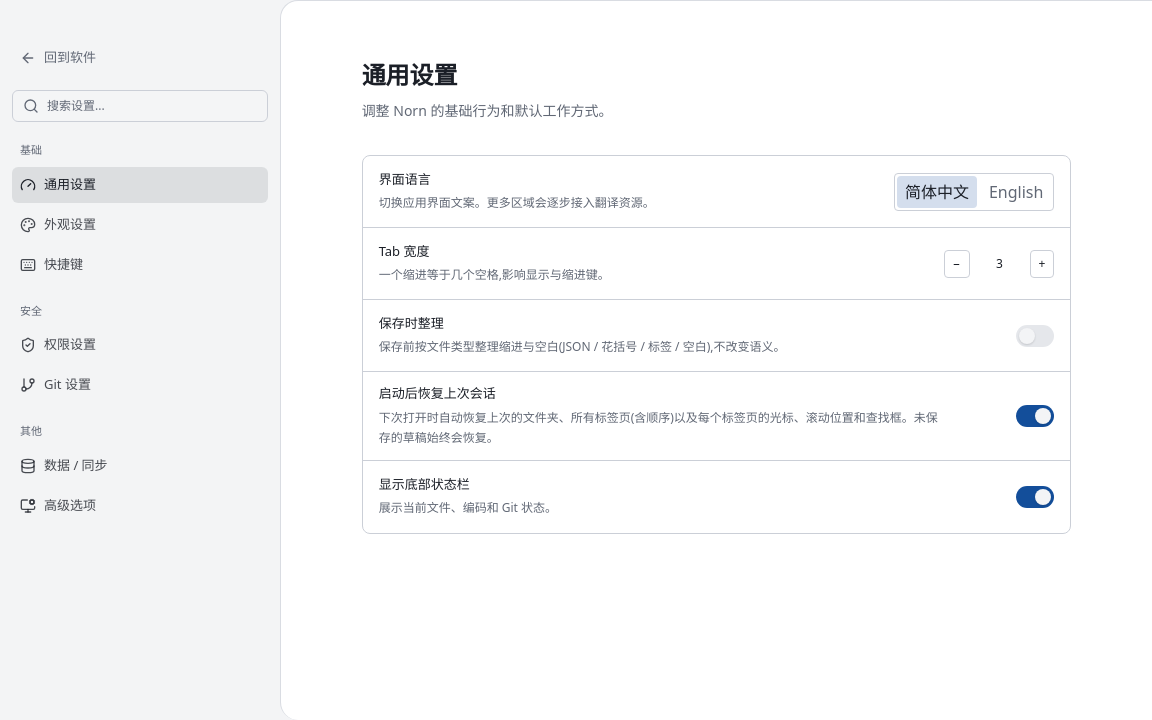
Test case: SettingsPage › 切换英文后更新设置页核心文案
Click the button "English".
click(1016, 192)  # box [981,176,1051,208]
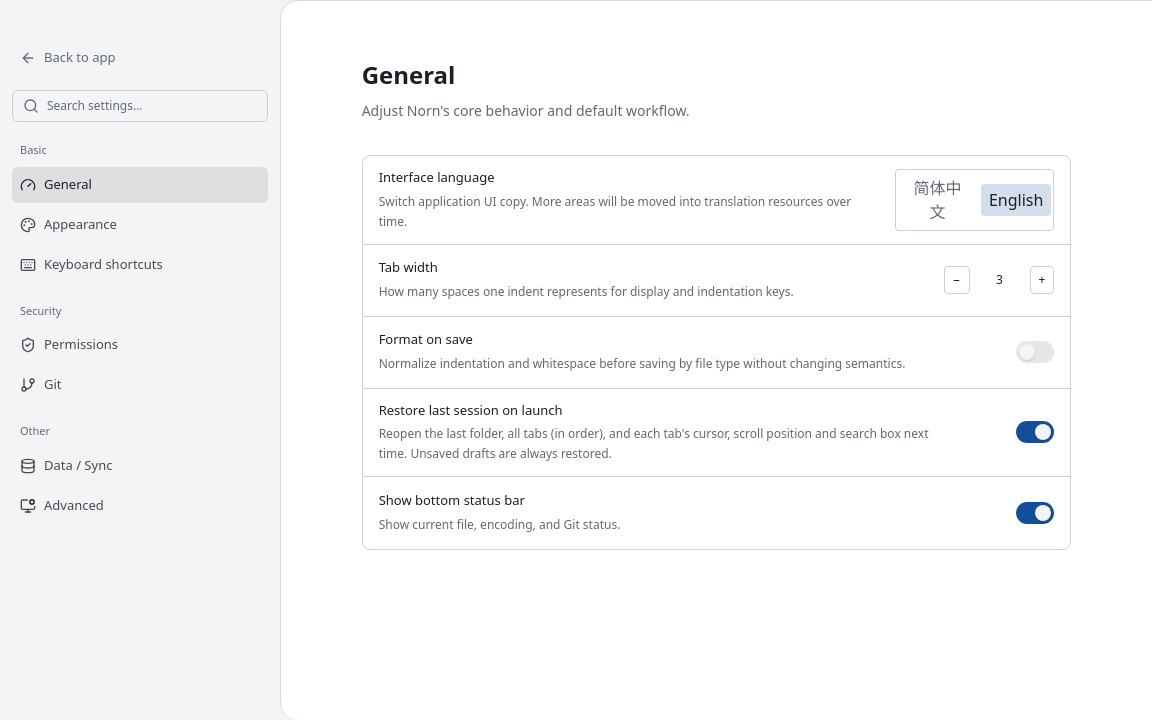
Expected: the heading "General" is shown, [362,58,455,91]
Expected: the button "Back to app" is shown, [12,42,268,74]
